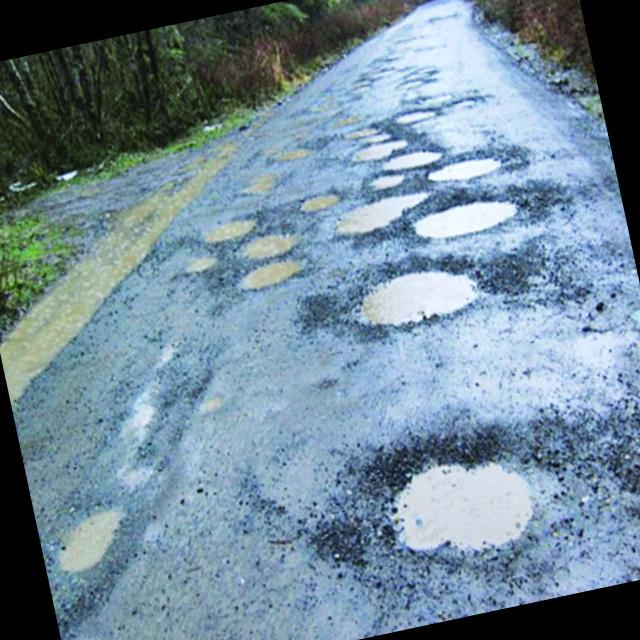Pothole: (340, 423, 559, 585), (342, 250, 502, 343), (44, 496, 128, 604), (412, 186, 530, 244), (321, 183, 430, 240), (426, 144, 536, 198), (238, 248, 336, 298), (231, 220, 320, 273), (278, 176, 362, 232), (380, 145, 454, 182), (236, 164, 288, 204), (388, 106, 452, 138), (202, 217, 264, 246), (260, 144, 316, 172), (352, 140, 414, 164), (368, 166, 411, 196), (188, 247, 228, 276), (350, 134, 400, 154), (340, 123, 385, 143)
